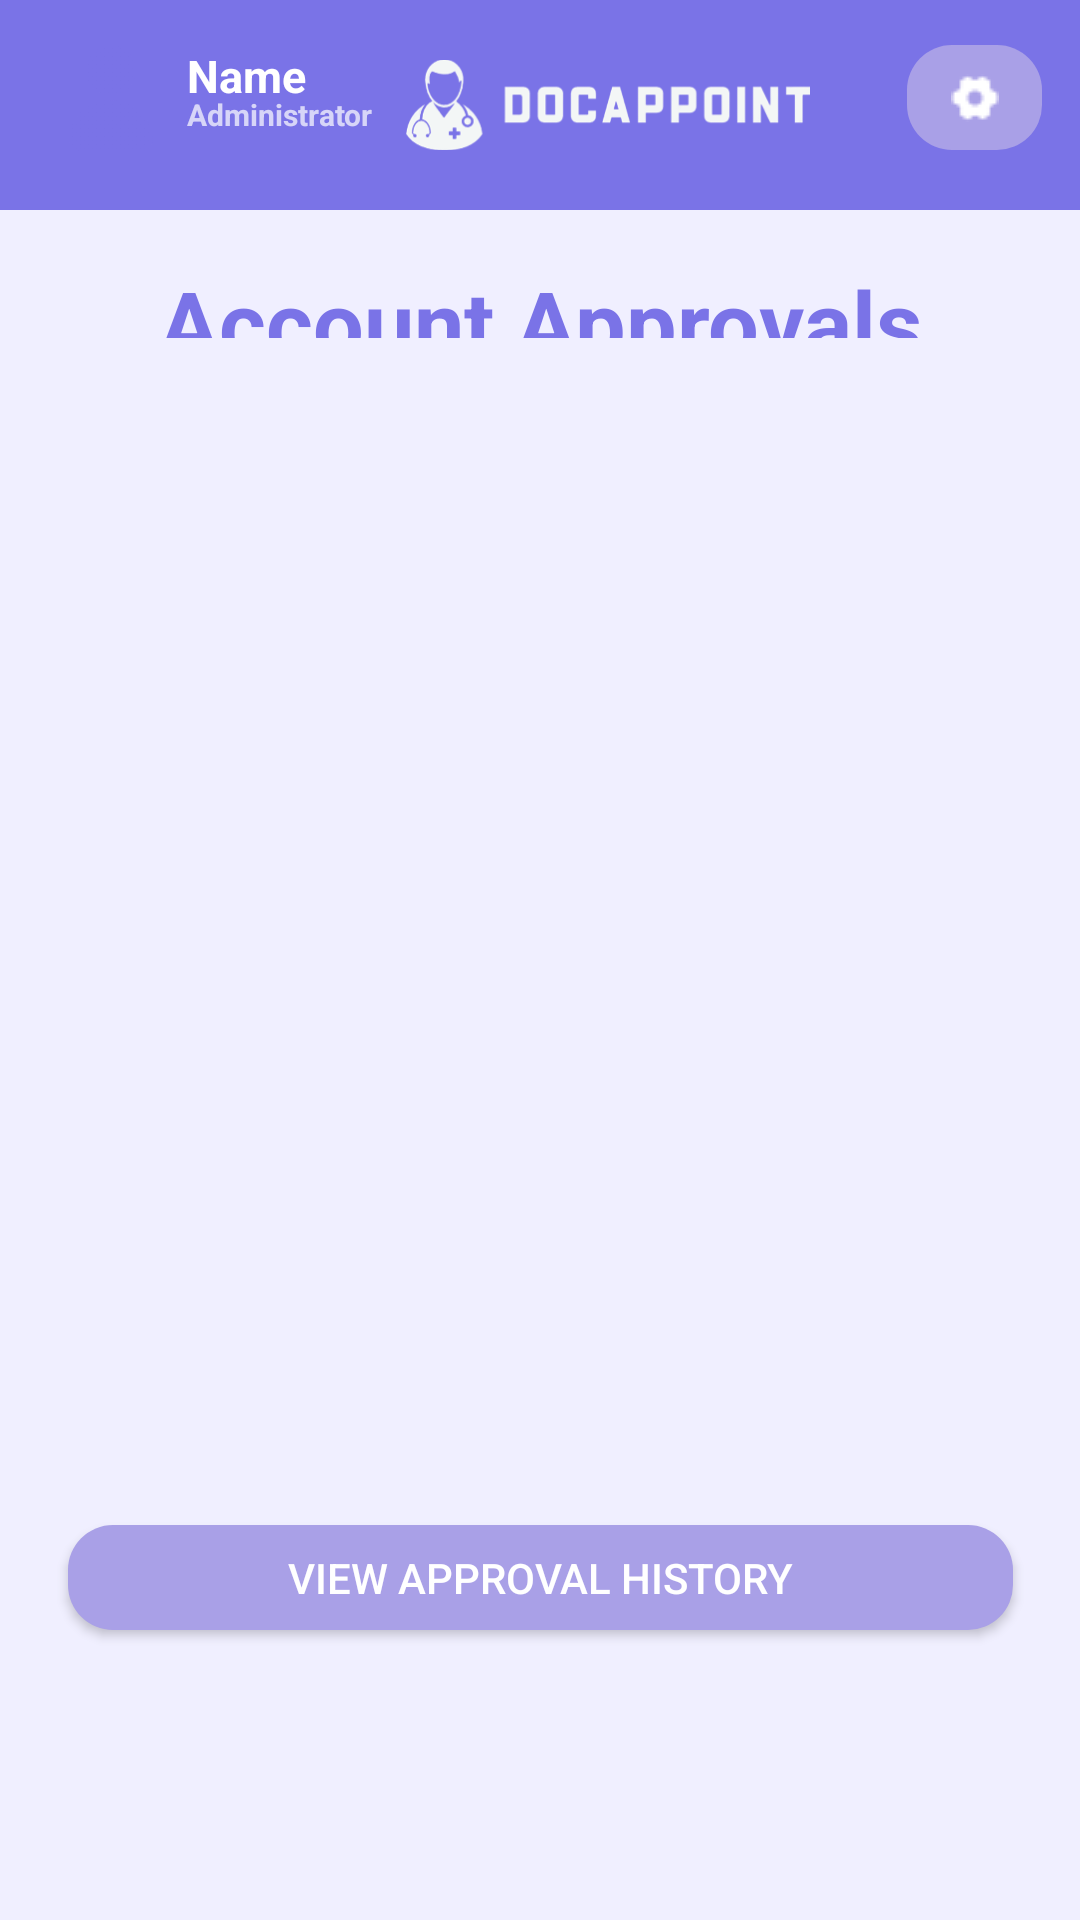

Screen size 1080px x 1920px. Icon name, then its box in pixels as (x1, y1, x2, y2):
setting: (907, 45, 1042, 150)
